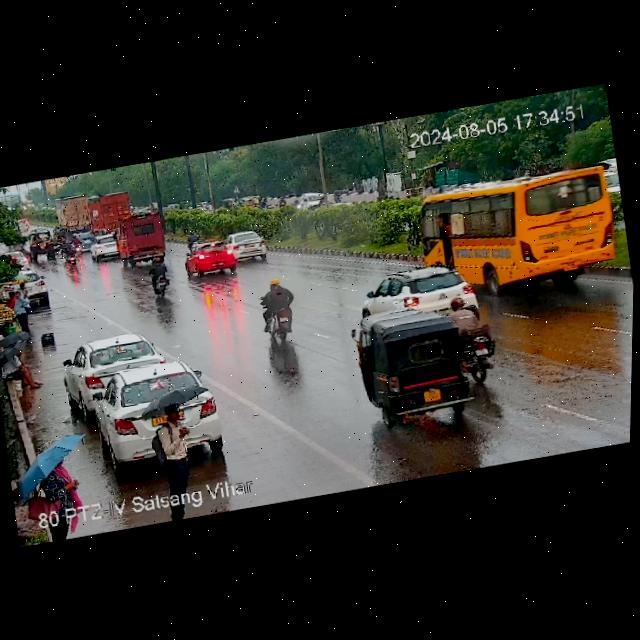bus: (404, 158, 622, 307)
car: (86, 357, 220, 467), (64, 330, 167, 405), (359, 261, 472, 322), (113, 209, 176, 272), (181, 238, 239, 281), (226, 228, 278, 265), (26, 229, 60, 265), (87, 233, 125, 264), (24, 264, 51, 306), (79, 230, 96, 250)
motorcycle: (259, 275, 298, 342), (145, 251, 174, 297), (63, 242, 80, 268), (72, 234, 84, 256), (71, 235, 83, 257), (57, 227, 67, 242)
person: (146, 399, 200, 498), (32, 458, 84, 529), (0, 344, 46, 397), (11, 288, 32, 334), (19, 280, 34, 312), (7, 290, 18, 306)
truck: (351, 298, 494, 437), (54, 186, 136, 241)
